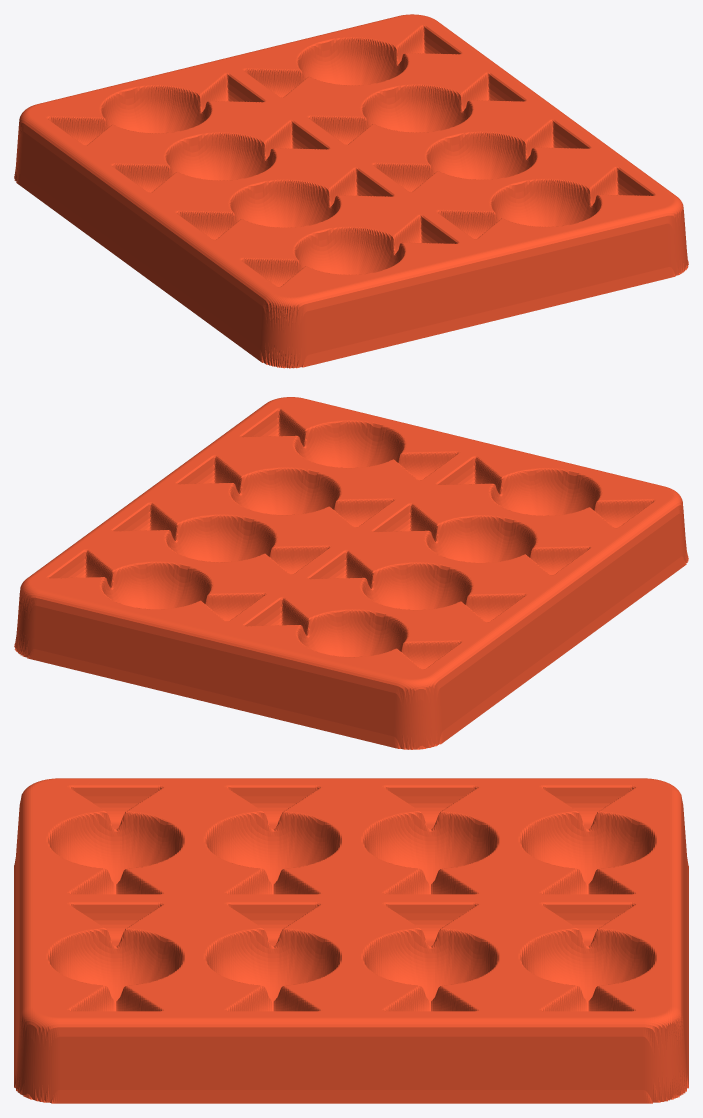
The model's file is mold.glb.
3 renders of one model, top to bottom at view 1: azimuth 30°, elevation 25°; view 2: azimuth 150°, elevation 25°; view 3: azimuth 270°, elevation 25°, orthographic. The views are drawn at different scales.
Parts seen in each view (by area): view 1: geometry_0; view 2: geometry_0; view 3: geometry_0.
Part boxes in pixels (box(x1,y1,x2,y2)): geometry_0: box(14, 14, 688, 368); geometry_0: box(14, 397, 688, 749); geometry_0: box(14, 778, 688, 1103).
Bounding box in the file's own units: 0.1209 × 0.0175 × 0.1362.
